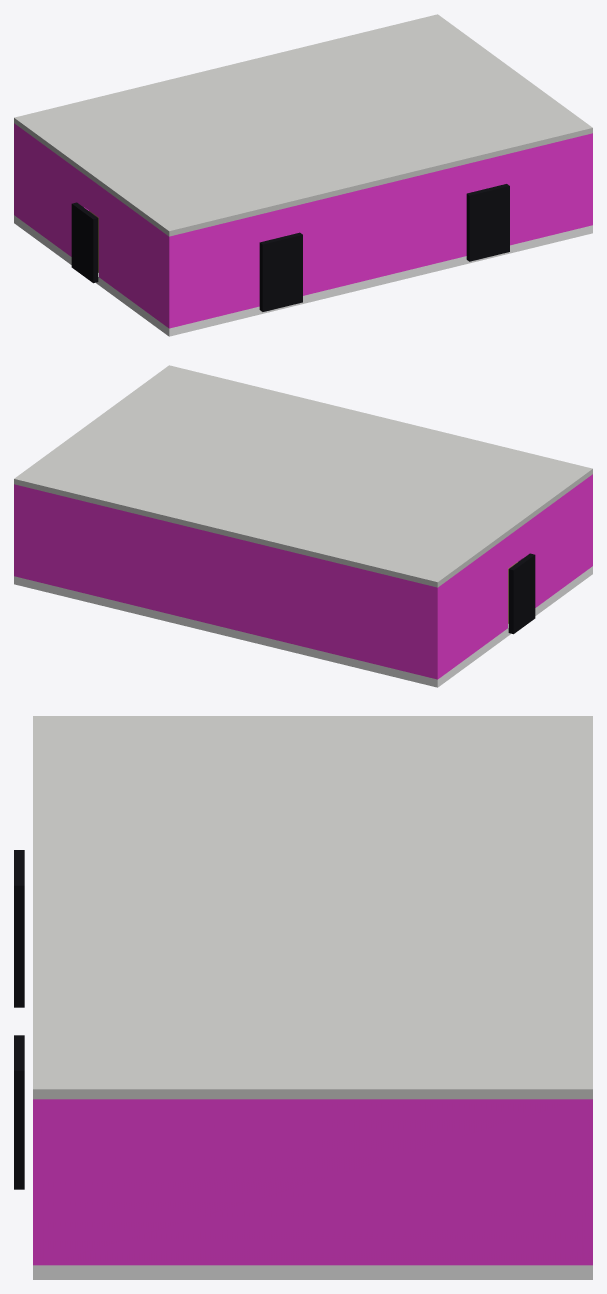
File: rdwe_mirror_room.glb
The picture shows the model from 3 angles, top to bottom: view 1: azimuth 30°, elevation 25°; view 2: azimuth 150°, elevation 25°; view 3: azimuth 270°, elevation 25°; orthographic projection. The views are drawn at different scales.
Parts seen in each view (by area): view 1: Room_Ceiling, Room_Wall_S_3, Room_Wall_S_1, Room_Wall_S_5, Room_Wall_W_3, Room_Wall_W_1, Room_Floor, Beyond_three, Beyond_reflection, Beyond_moon, Room_Wall_S_4, Room_Wall_S_2 (+1 smaller); view 2: Room_Ceiling, Room_Wall_N_1, Room_Wall_W_1, Room_Wall_W_3, Room_Floor, Beyond_moon, Room_Wall_W_2; view 3: Room_Ceiling, Room_Wall_E_1, Room_Floor, Room_Wall_N_1, Room_Wall_S_5, Beyond_three, Beyond_reflection.
Boxes of the visible parts, x1,y1,x2,y2 form: Room_Ceiling: (14, 14, 592, 236); Room_Wall_S_3: (292, 163, 470, 295); Room_Wall_S_1: (166, 213, 263, 328); Room_Wall_S_5: (498, 133, 592, 245); Room_Wall_W_3: (99, 185, 166, 325); Room_Wall_W_1: (17, 125, 88, 256); Room_Floor: (14, 215, 592, 336); Beyond_three: (259, 232, 302, 311); Beyond_reflection: (466, 184, 509, 261); Beyond_moon: (71, 202, 98, 283); Room_Wall_S_4: (470, 156, 498, 192); Room_Wall_S_2: (263, 206, 291, 241); Room_Ceiling: (14, 365, 592, 587); Room_Wall_N_1: (14, 484, 440, 679); Room_Wall_W_1: (440, 536, 507, 676); Room_Wall_W_3: (518, 476, 589, 607); Room_Floor: (14, 566, 592, 687); Beyond_moon: (508, 553, 535, 634); Room_Wall_W_2: (508, 526, 522, 568); Room_Ceiling: (33, 716, 592, 1099); Room_Wall_E_1: (43, 1099, 582, 1265); Room_Floor: (33, 1265, 592, 1279); Room_Wall_N_1: (582, 1099, 592, 1265); Room_Wall_S_5: (33, 1099, 43, 1265); Beyond_three: (14, 850, 24, 1007); Beyond_reflection: (14, 1035, 24, 1189).
Bounding box in the file's own units: 16.75 × 3.9 × 10.75.
